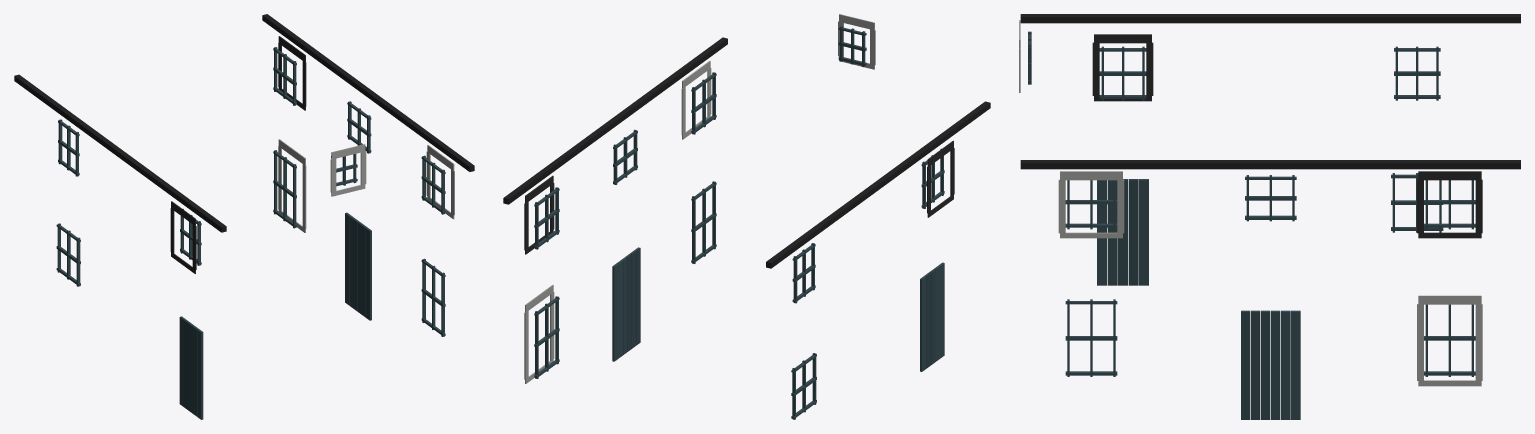
The model's file is SM_Bld_195_Wood.glb.
3 renders of one model, left to right at view 1: azimuth 30°, elevation 25°; view 2: azimuth 150°, elevation 25°; view 3: azimuth 270°, elevation 25°, orthographic. The views are drawn at different scales.
Parts seen in each view (by area): view 1: SM_Bld_195_Wood; view 2: SM_Bld_195_Wood; view 3: SM_Bld_195_Wood.
Boxes of the visible parts, x1=… form: SM_Bld_195_Wood: x1=14, y1=14, x2=474, y2=419; SM_Bld_195_Wood: x1=503, y1=14, x2=990, y2=419; SM_Bld_195_Wood: x1=1019, y1=14, x2=1520, y2=419.
Size of the model in its own units: 6.06 by 6.11 by 8.62.
